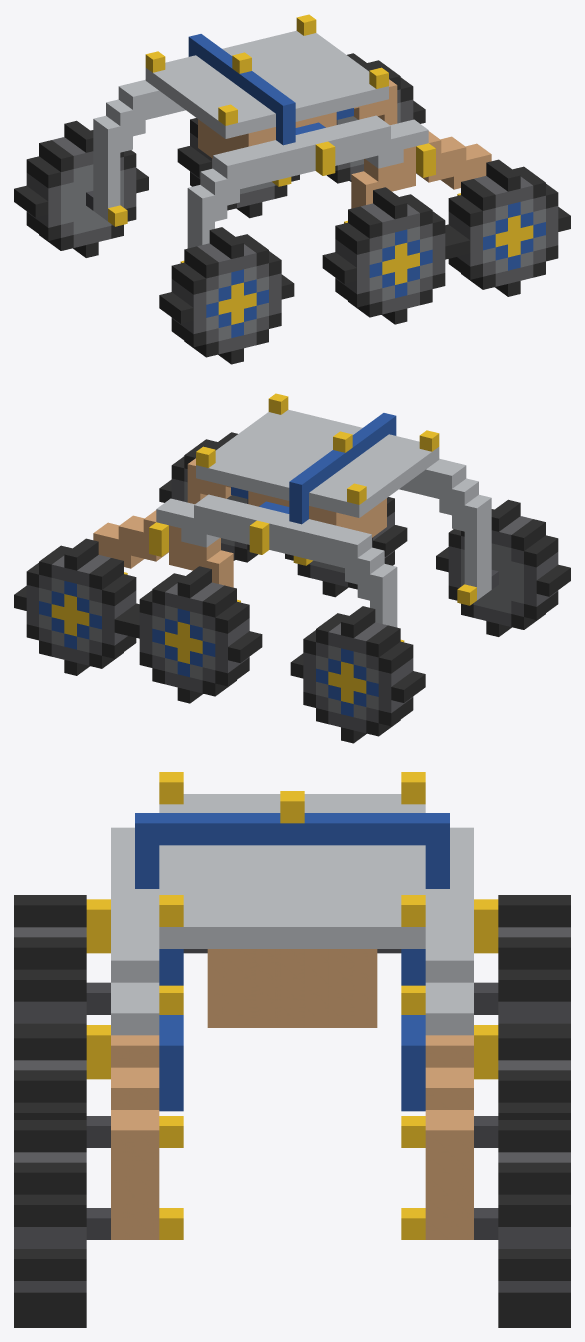
The model's file is Wheel System and Rocker-Bogie Suspension (Sojourner).glb.
3 views of the same model, one above another, from view 1: azimuth 30°, elevation 25°; view 2: azimuth 150°, elevation 25°; view 3: azimuth 270°, elevation 25° (orthographic). The views are drawn at different scales.
Visible parts, largest first — view 1: Sistema_RockerBogie_Voxel; view 2: Sistema_RockerBogie_Voxel; view 3: Sistema_RockerBogie_Voxel.
Part boxes in pixels (x1,y1,x2,y2): Sistema_RockerBogie_Voxel: (14, 14, 570, 364); Sistema_RockerBogie_Voxel: (14, 393, 570, 743); Sistema_RockerBogie_Voxel: (14, 772, 570, 1327).
Size of the model in its own units: 3.1 by 1.7 by 2.3.
